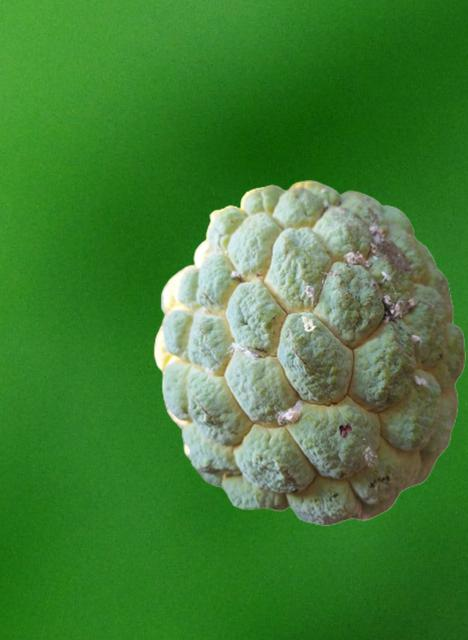atis: (153, 180, 464, 524)
